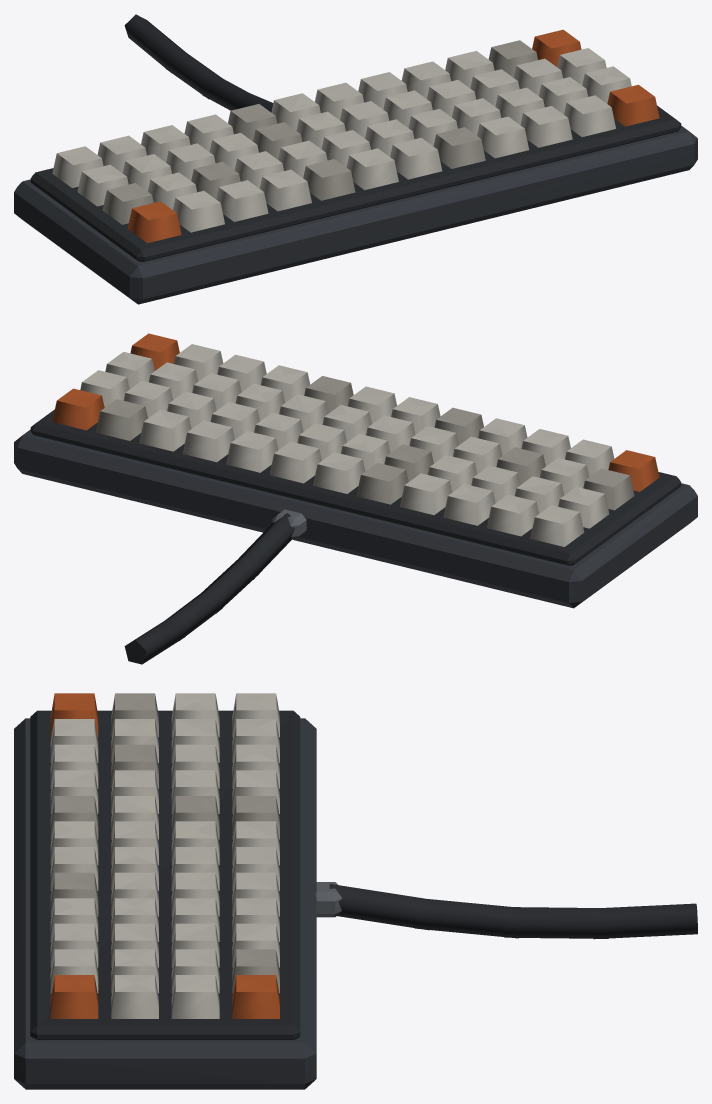
Rendered from keyboard.glb.
The picture shows the model from 3 angles, top to bottom: view 1: azimuth 30°, elevation 25°; view 2: azimuth 150°, elevation 25°; view 3: azimuth 270°, elevation 25°; orthographic projection. The views are drawn at different scales.
Parts seen in each view (by area): view 1: keyboard; view 2: keyboard; view 3: keyboard.
Boxes of the visible parts, <box> form: keyboard: <box>14,14,697,304</box>; keyboard: <box>14,333,697,664</box>; keyboard: <box>14,693,697,1089</box>.
Size of the model in its own units: 0.34 by 0.046 by 0.2937.
